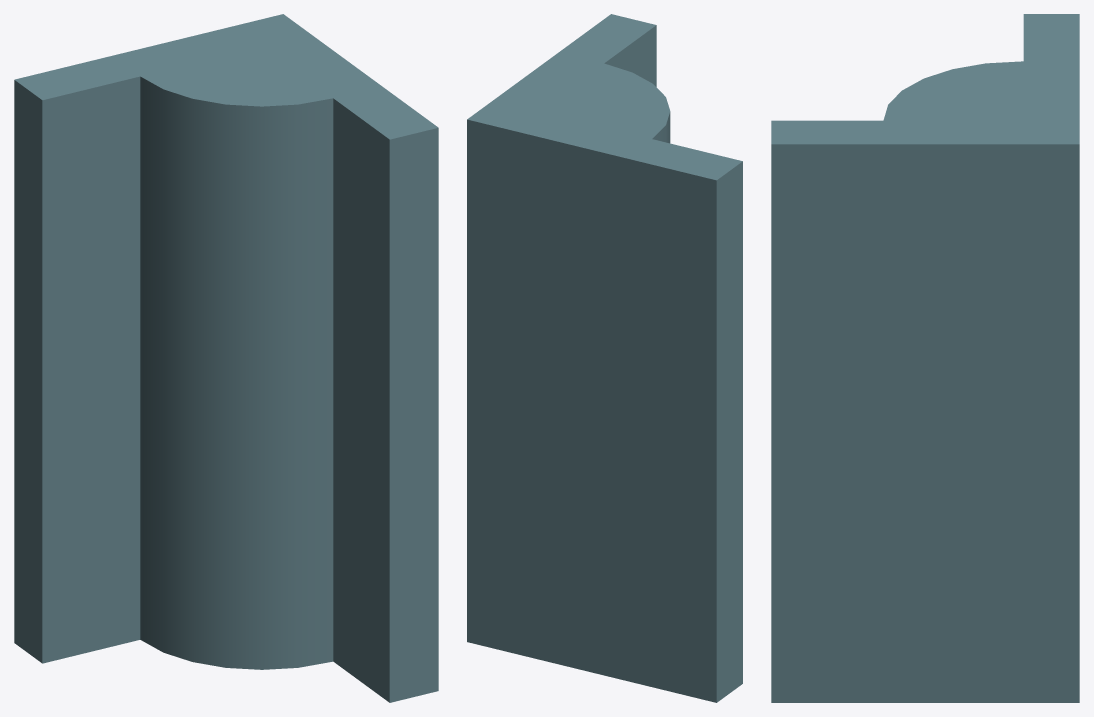
The model's file is W1_WallCorner_Round2B.fbx.
The picture shows the model from 3 angles, left to right: view 1: azimuth 30°, elevation 25°; view 2: azimuth 150°, elevation 25°; view 3: azimuth 270°, elevation 25°; orthographic projection. The views are drawn at different scales.
Visible parts, largest first — view 1: W1_WallCorner_Round2B.001; view 2: W1_WallCorner_Round2B.001; view 3: W1_WallCorner_Round2B.001.
Part boxes in pixels (x1,y1,x2,y2): W1_WallCorner_Round2B.001: [14, 14, 438, 702]; W1_WallCorner_Round2B.001: [467, 14, 742, 702]; W1_WallCorner_Round2B.001: [771, 14, 1079, 702].
Size of the model in its own units: 1.1 by 2.2 by 1.1.
